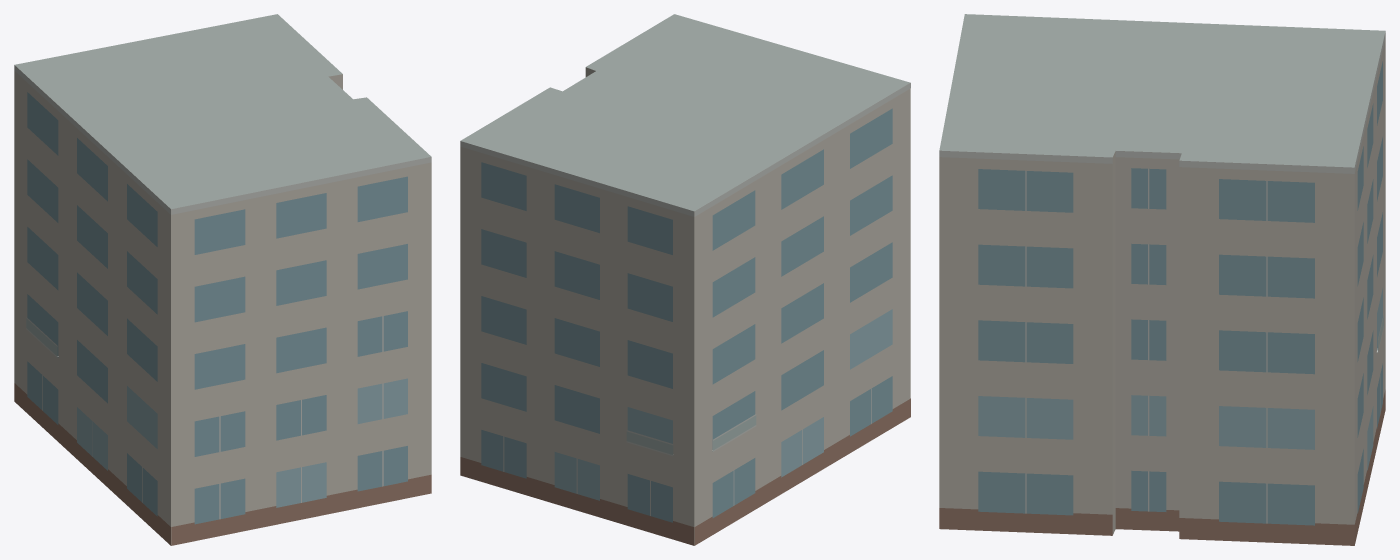
The model's file is survey-upis-32875712.glb.
3 views of the same model, side by side, from view 1: azimuth 30°, elevation 25°; view 2: azimuth 150°, elevation 25°; view 3: azimuth 270°, elevation 25° (orthographic). The views are drawn at different scales.
Parts seen in each view (by area): view 1: survey-upis-32875712.tmp; view 2: survey-upis-32875712.tmp; view 3: survey-upis-32875712.tmp.
Boxes of the visible parts, left/top/right/bottom form: survey-upis-32875712.tmp: left=14, top=14, right=431, bottom=545; survey-upis-32875712.tmp: left=460, top=14, right=910, bottom=545; survey-upis-32875712.tmp: left=939, top=14, right=1385, bottom=545.
Bounding box in the file's own units: 12.63 × 14.5 × 15.51.
